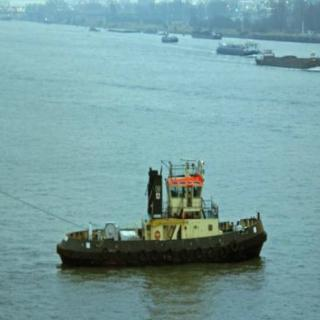Tug Boat: (59, 154, 268, 266)
